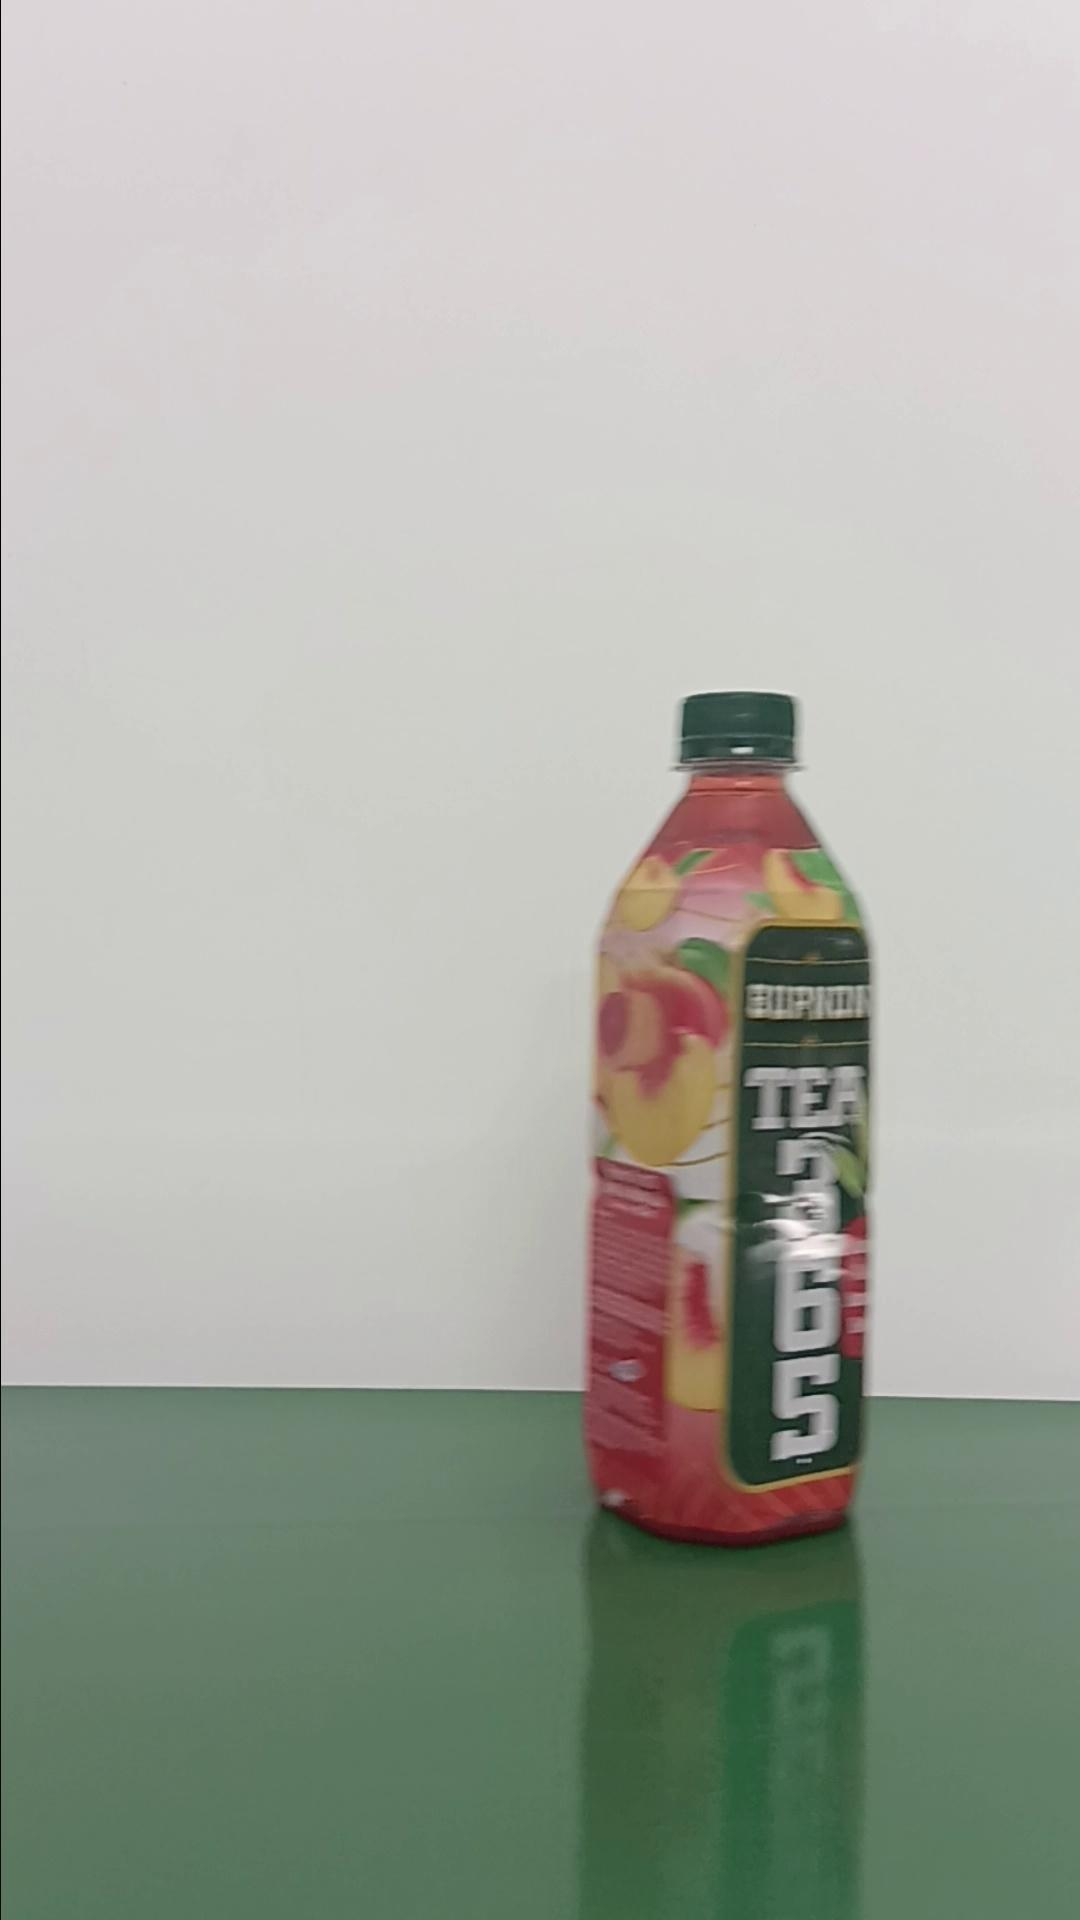khong loi: (579, 687, 876, 1547)
